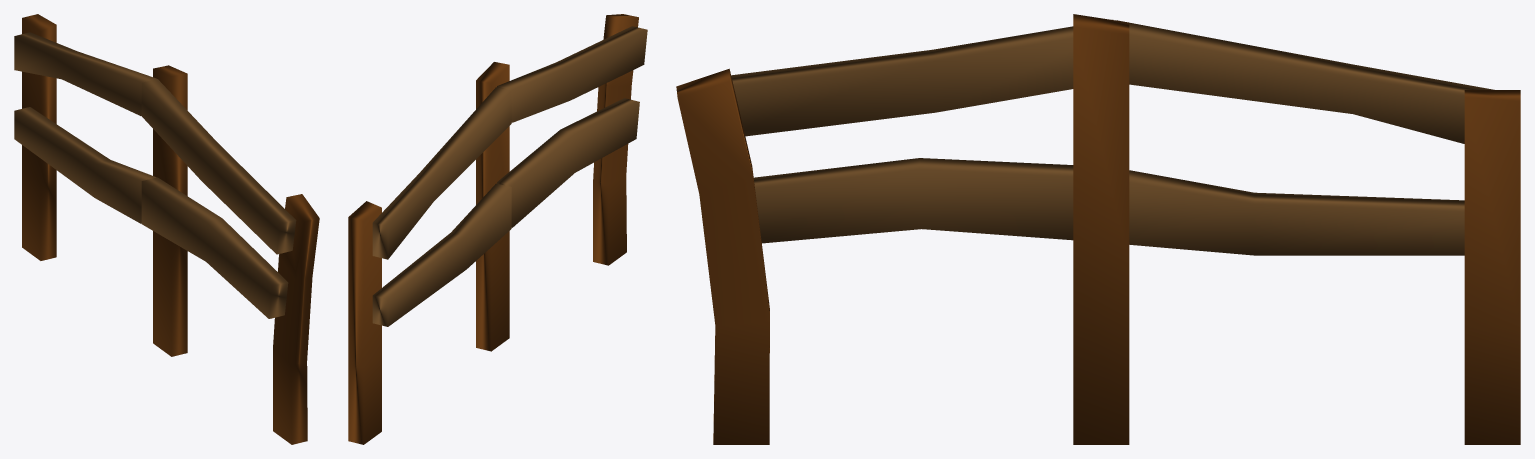
File: Valla2.fbx
The picture shows the model from 3 angles, left to right: view 1: azimuth 30°, elevation 25°; view 2: azimuth 150°, elevation 25°; view 3: azimuth 270°, elevation 25°; orthographic projection. The views are drawn at different scales.
Parts seen in each view (by area): view 1: Tabla.021; view 2: Tabla.021; view 3: Tabla.021.
Part boxes in pixels (left/top/right/bottom): Tabla.021: left=14, top=14, right=319, bottom=444; Tabla.021: left=348, top=14, right=647, bottom=444; Tabla.021: left=676, top=14, right=1520, bottom=444.
Bounding box in the file's own units: 18.01 × 149 × 273.
